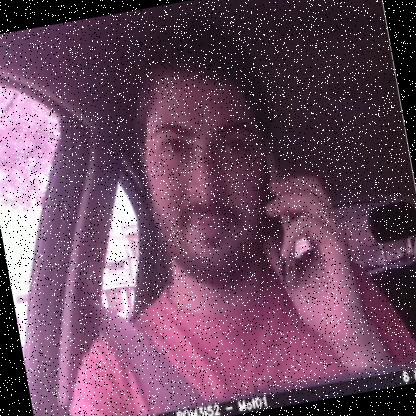phone: (238, 132, 317, 291)
